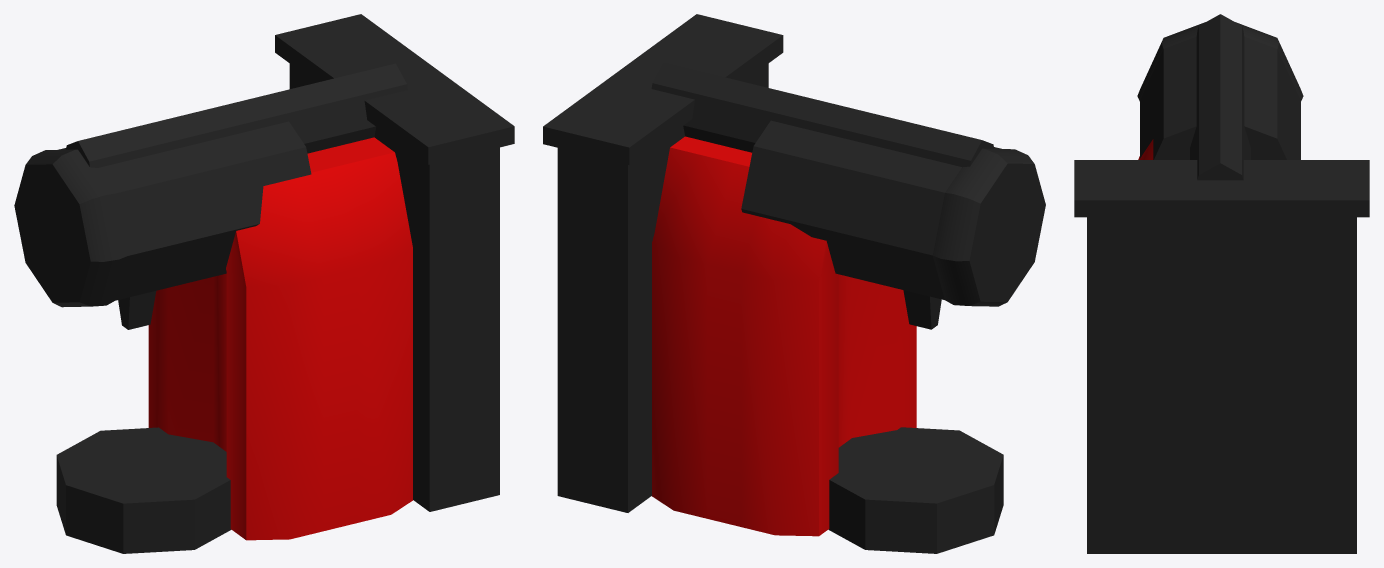
File: coffee machine.fbx
3 renders of one model, left to right at view 1: azimuth 30°, elevation 25°; view 2: azimuth 150°, elevation 25°; view 3: azimuth 270°, elevation 25°, orthographic. The views are drawn at different scales.
Parts seen in each view (by area): view 1: pCube112, pCube114, pCylinder22, pCylinder21, pCylinder23, pCylinder24, pCube113; view 2: pCube112, pCube114, pCylinder22, pCylinder21, pCylinder23, pCylinder24, pCube113; view 3: pCube114, pCylinder22, pCylinder24, pCylinder23.
Part boxes in pixels (box(x1,y1,x2,y2)): pCube112: box(148, 137, 412, 540); pCube114: box(275, 14, 514, 511); pCylinder22: box(58, 121, 311, 300); pCylinder21: box(56, 427, 231, 553); pCylinder23: box(14, 149, 127, 307); pCylinder24: box(66, 63, 407, 167); pCube113: box(118, 291, 156, 329); pCube112: box(652, 136, 916, 536); pCube114: box(543, 14, 783, 512); pCylinder22: box(741, 120, 1001, 299); pCylinder21: box(828, 427, 1003, 553); pCylinder23: box(932, 148, 1045, 306); pCylinder24: box(651, 62, 994, 167); pCube113: box(903, 290, 941, 329); pCube114: box(1074, 160, 1369, 553); pCylinder22: box(1140, 37, 1300, 159); pCylinder24: box(1190, 14, 1250, 180); pCylinder23: box(1137, 22, 1303, 101).
Bounding box in the file's own units: 1.1 × 1.07 × 0.7566.
